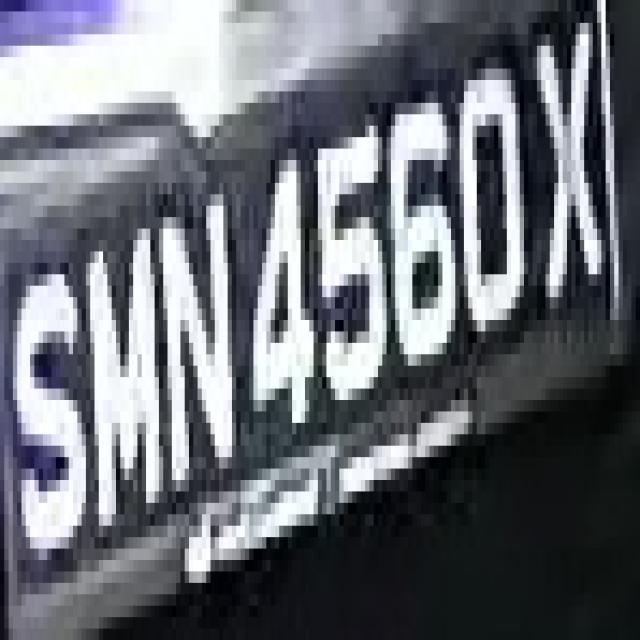0: (447, 34, 528, 377)
4: (240, 137, 318, 446)
5: (305, 103, 387, 434)
6: (369, 80, 464, 411)
M: (81, 206, 168, 537)
N: (154, 183, 244, 514)
S: (13, 229, 94, 514)
X: (528, 12, 614, 354)
